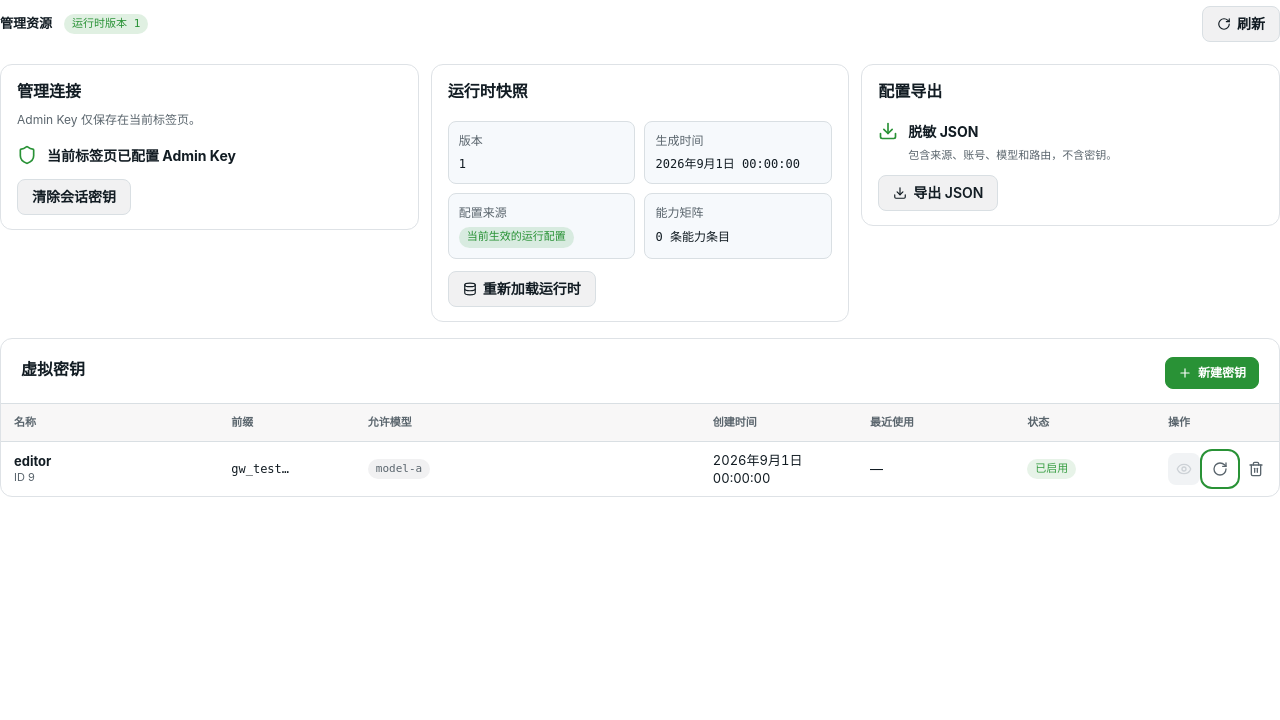
Test: Virtual Key rotation › rejects invalid overlap  without a mutation
The width and height of the screenshot is (1280, 720).
Click the button named "轮换 editor".
click(1220, 469)  # box [1204,453,1236,485]
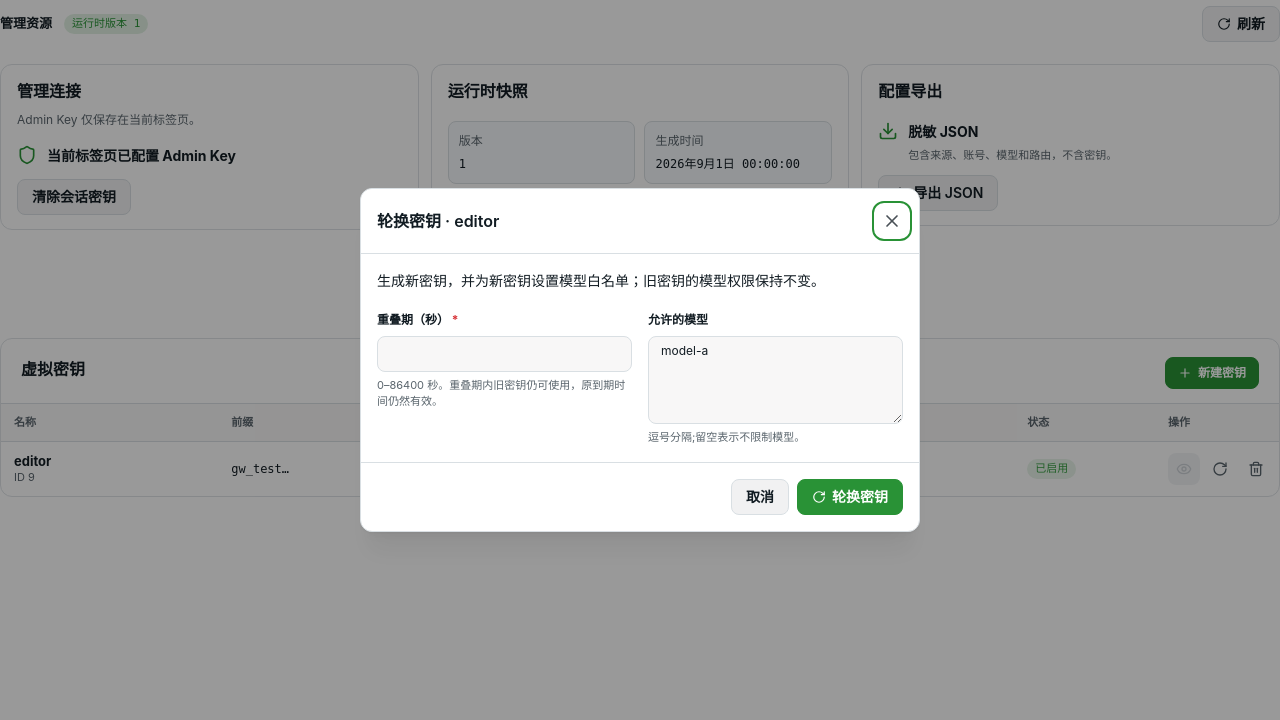
Clear the number field labelled "重叠期（秒） *" at x=504, y=354, box [377,336,632,372]
Now the button "轮换密钥" is shown
Click the button "轮换密钥".
click(850, 497)  # box [797,479,903,515]
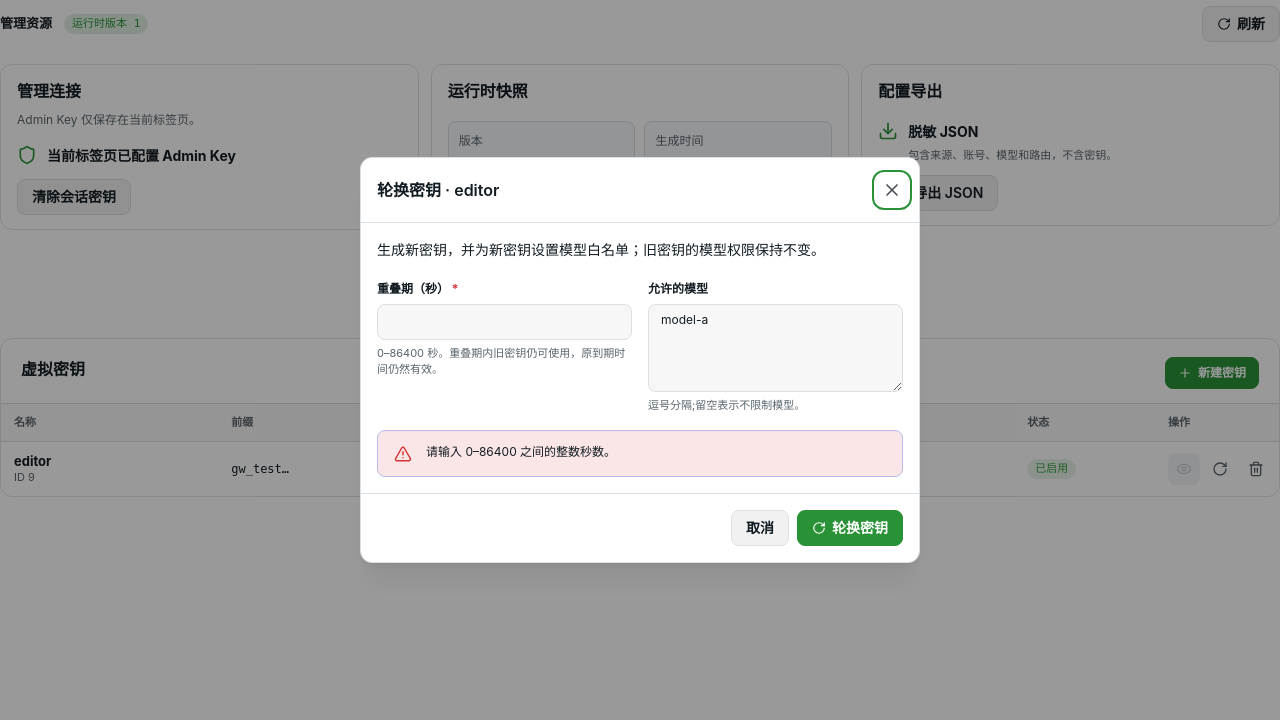
Now the text "请输入 0–86400 之间的整数秒数" is shown, box [426,444,616,459]
